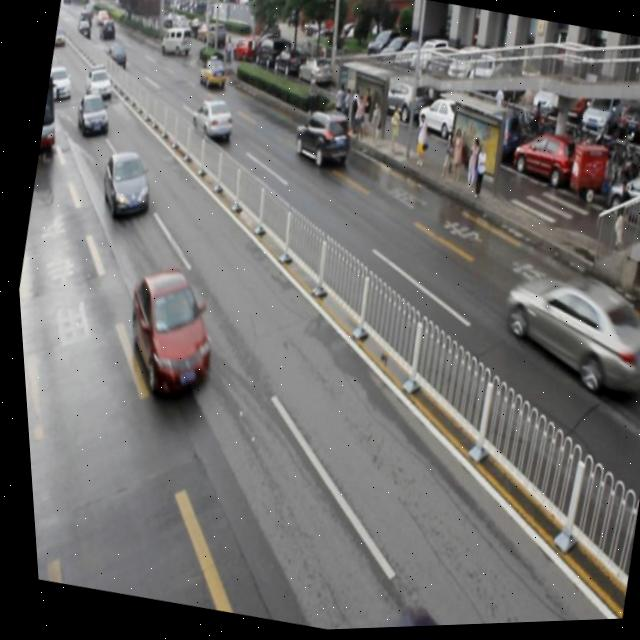car: (485, 259, 640, 410), (107, 263, 223, 407), (91, 147, 157, 226), (286, 104, 353, 173), (186, 95, 236, 144), (70, 90, 112, 138), (195, 53, 229, 92)
van: (31, 58, 71, 162)
